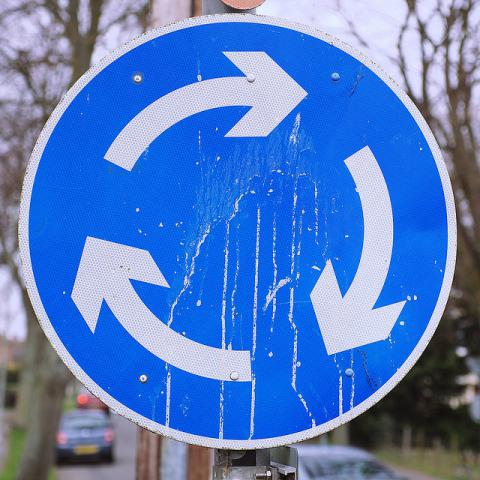car: (296, 444, 423, 474), (53, 406, 116, 465)
